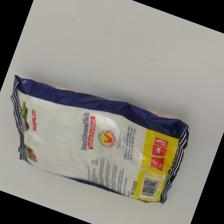Salt: (10, 76, 190, 207)
